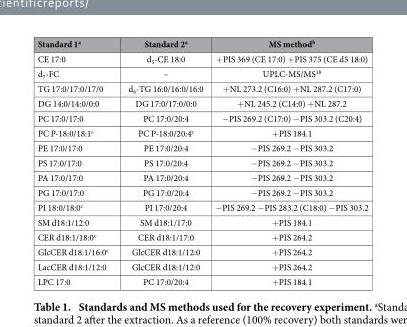table: (36, 37, 367, 287)
table column: (208, 37, 367, 287), (117, 37, 208, 287), (36, 37, 117, 287)
table column header: (36, 37, 367, 50)
table row: (36, 50, 367, 66), (36, 66, 367, 81), (36, 95, 367, 110), (36, 110, 367, 125), (36, 125, 367, 140), (36, 154, 367, 169), (36, 169, 367, 184), (36, 184, 367, 199), (36, 199, 367, 214), (36, 214, 367, 229), (36, 229, 367, 244), (36, 258, 367, 273), (36, 81, 367, 95), (36, 140, 367, 154), (36, 244, 367, 258), (36, 273, 367, 287), (36, 37, 367, 50)
